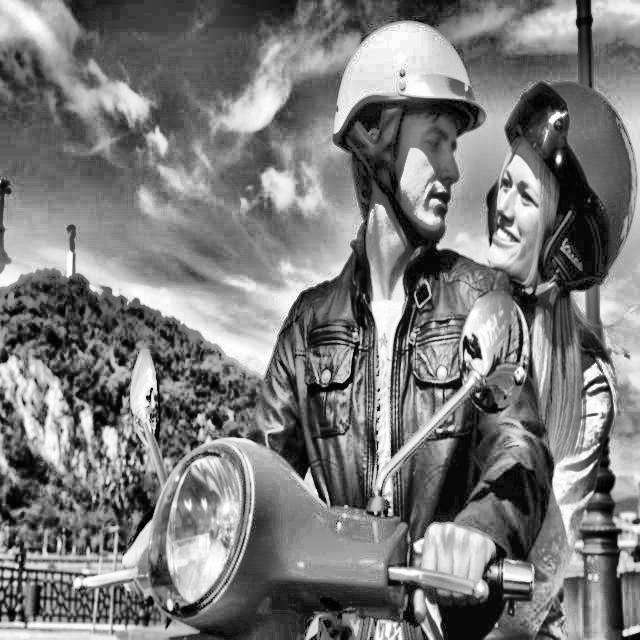Helmet: (328, 16, 490, 260), (487, 72, 640, 314)
